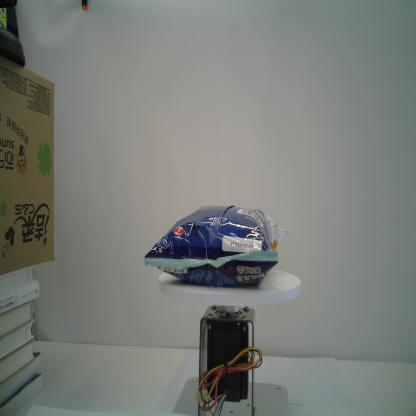Puffed Food: (144, 206, 288, 288)
